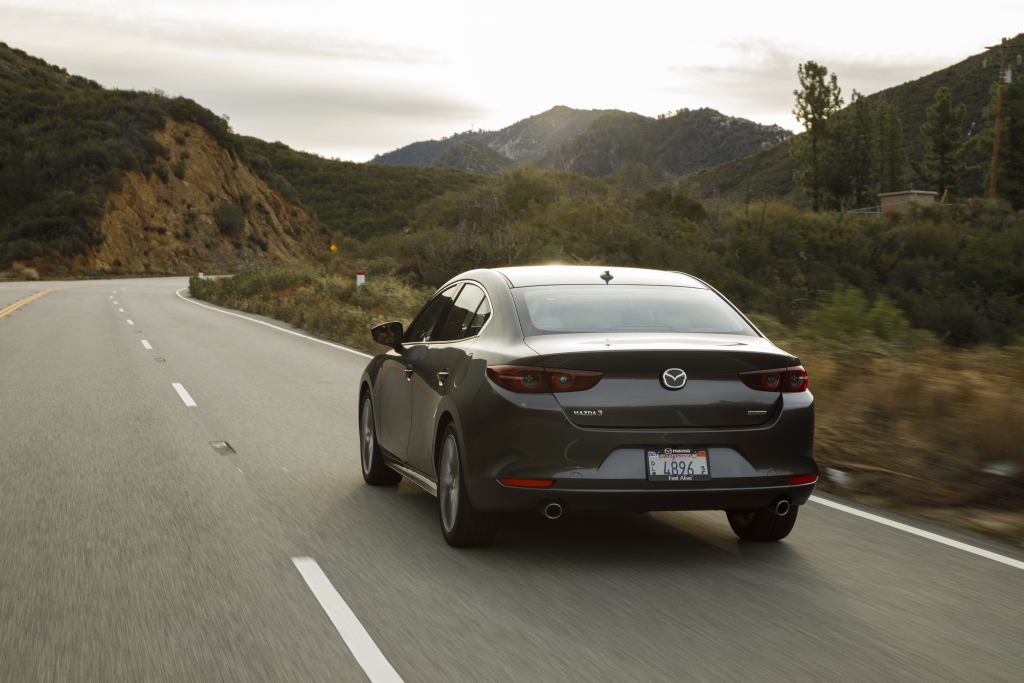Mazda3 Hatchback: (359, 264, 823, 552)
